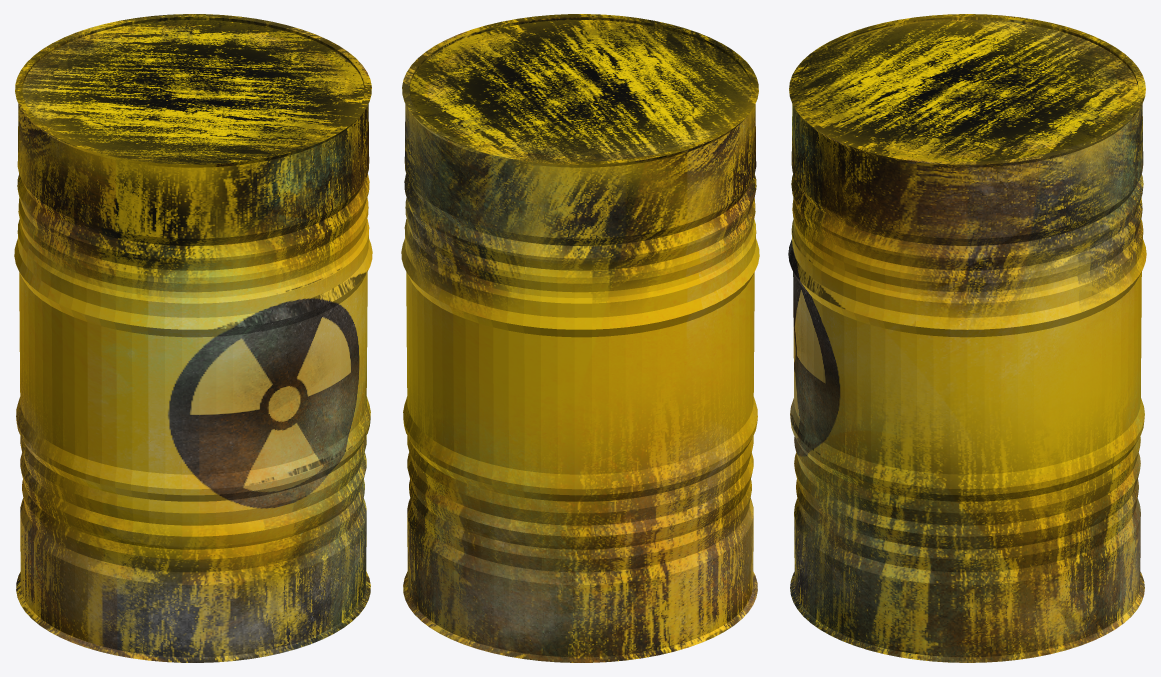
File: Barrel.fbx
3 renders of one model, left to right at view 1: azimuth 30°, elevation 25°; view 2: azimuth 150°, elevation 25°; view 3: azimuth 270°, elevation 25°, orthographic.
Parts seen in each view (by area): view 1: Plane; view 2: Plane; view 3: Plane.
Part boxes in pixels (<box>): Plane: <box>14,14,372,662</box>; Plane: <box>401,14,759,662</box>; Plane: <box>788,14,1146,662</box>.
Size of the model in its own units: 234 by 360 by 234.
